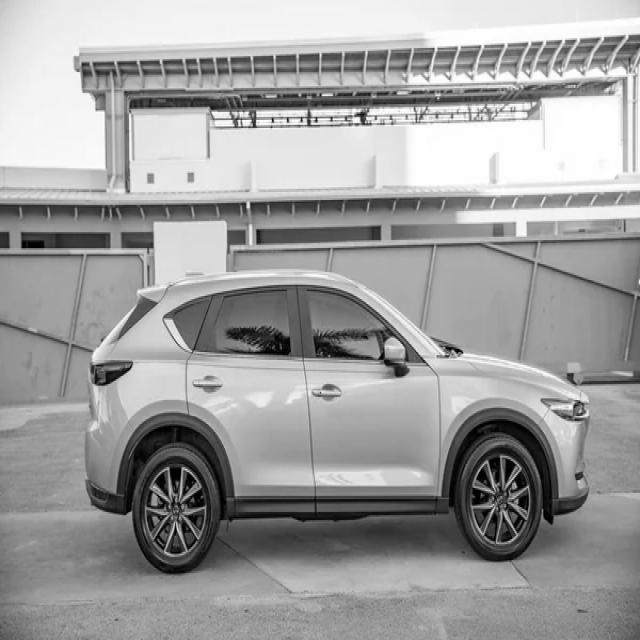Car: (85, 274, 591, 574)
